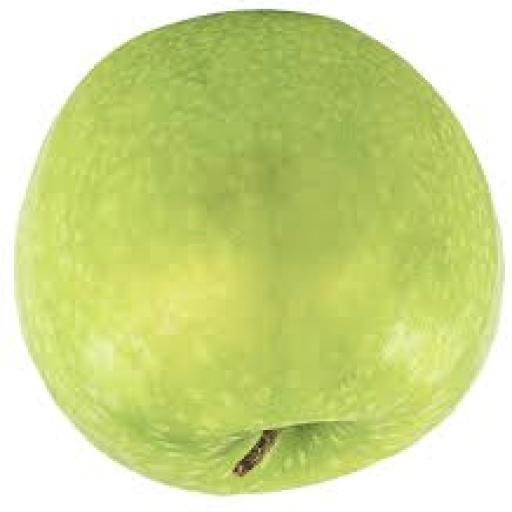apple: (17, 11, 502, 493)
